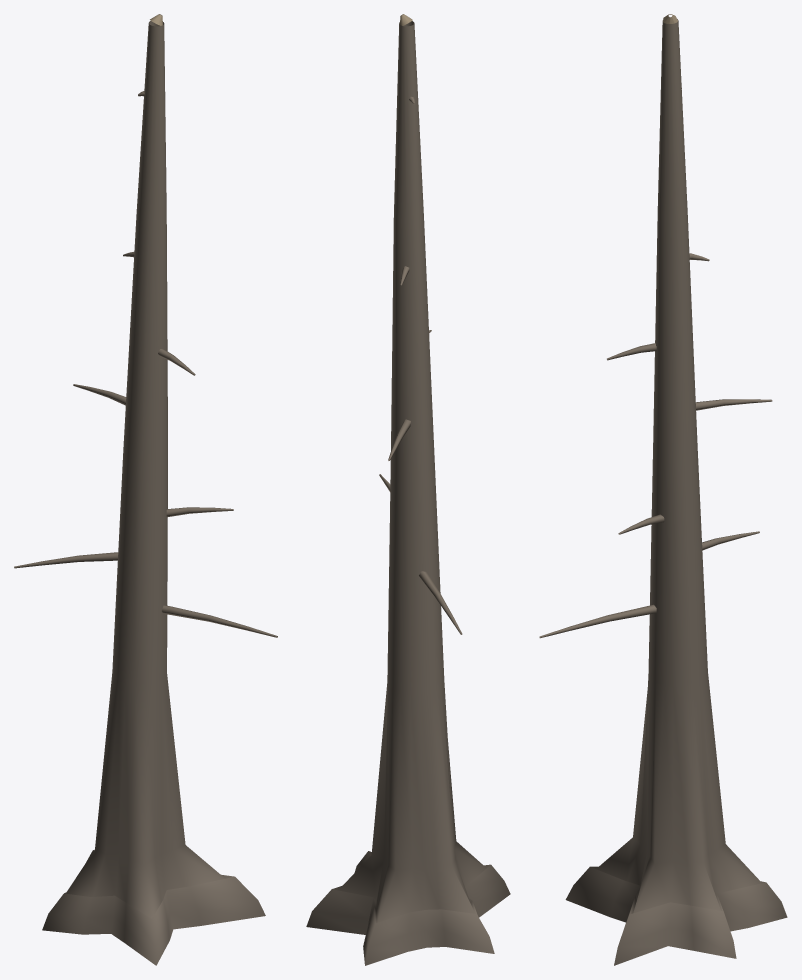
Rendered from snag.glb.
3 renders of one model, left to right at view 1: azimuth 30°, elevation 25°; view 2: azimuth 150°, elevation 25°; view 3: azimuth 270°, elevation 25°, orthographic.
Visible parts, largest first — view 1: snag; view 2: snag; view 3: snag.
Part boxes in pixels (x1,y1,x2,y2): snag: (14, 14, 277, 965); snag: (306, 14, 510, 965); snag: (539, 14, 787, 965).
Size of the model in its own units: 2.12 by 9.99 by 2.46.
